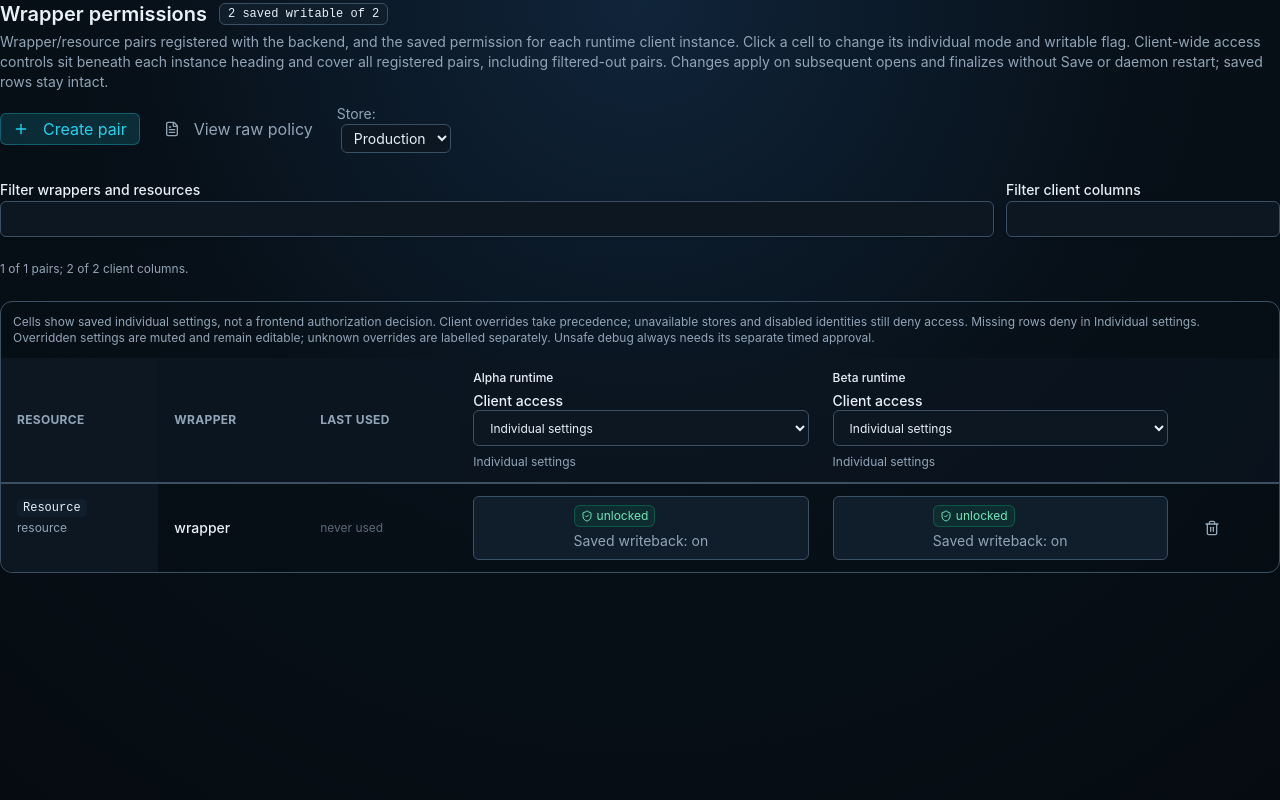
Test: instance controls in permission columns › places controls below the correct heading and changes only that column after acknowledgement
The image size is (1280, 800).
Later steps or results of the test are not shown.
Expected: the button with test id "wrappers-cell-wrapper-resource-Alpha" is shown, [473,496,809,560]
Select "Lock all" in the dropdown labelled "Client access" below "Alpha runtime". click: (641, 428)
box: [473,410,809,446]
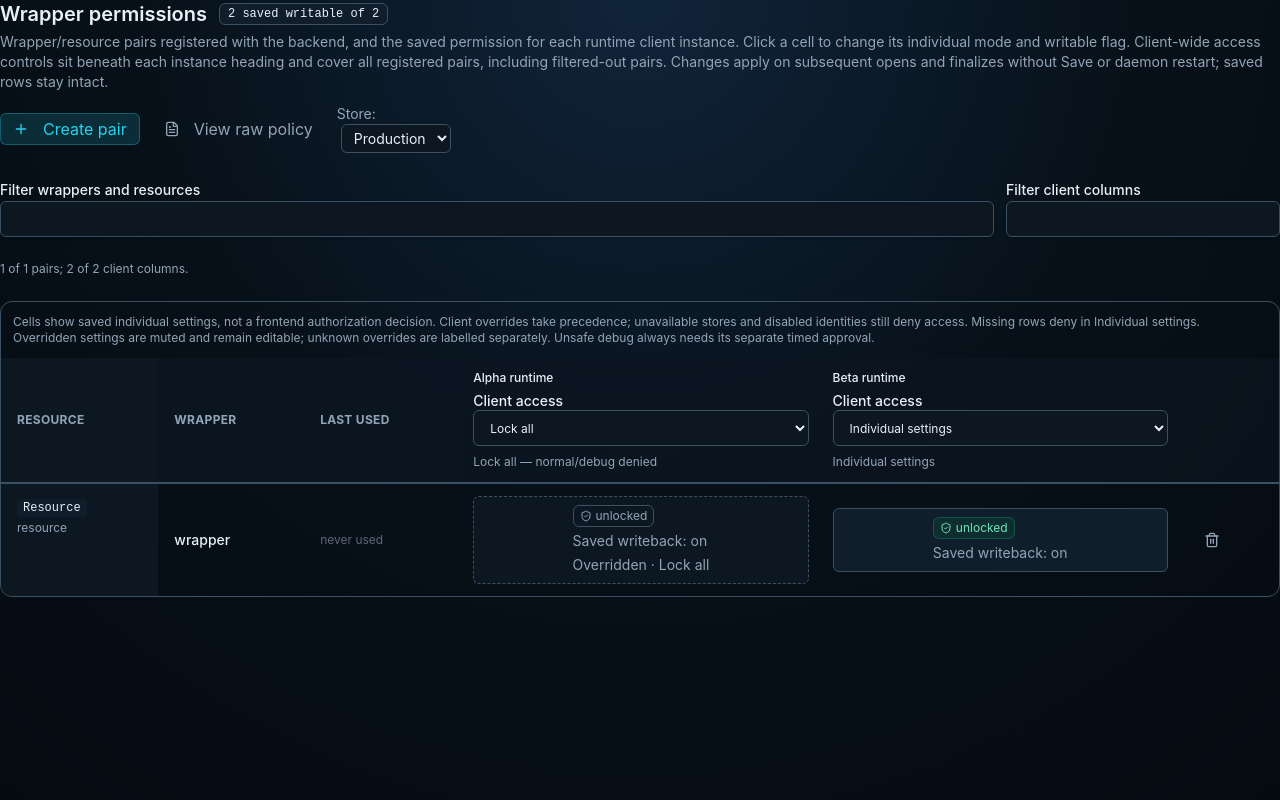
Expected: the button with test id "wrappers-cell-wrapper-resource-Alpha" shows "Overridden · Lock all"
The saved row is still editable, including its original flag.
Click the button with test id "wrappers-cell-wrapper-resource-Alpha". click: (641, 540)
box: [473,496,809,584]
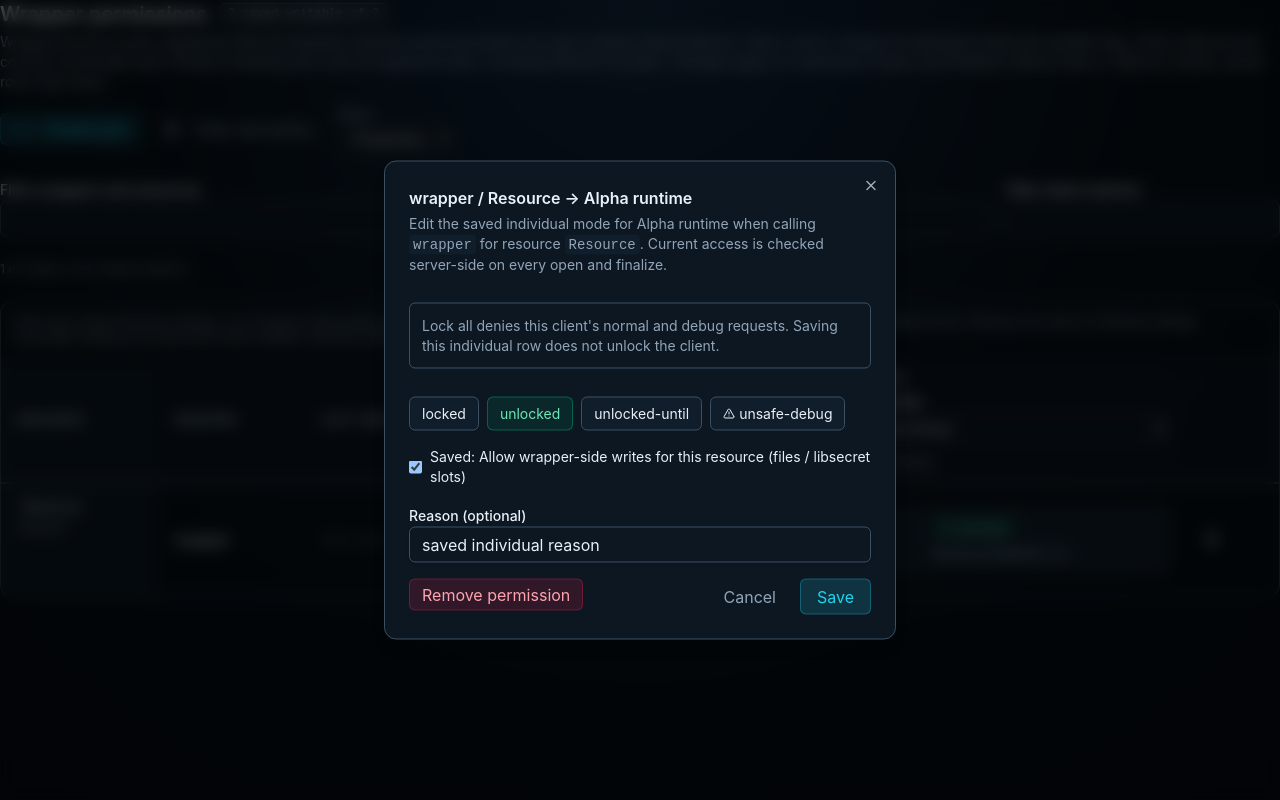
Expected: the checkbox is checked, [409,460,422,473]
Click the button "Cancel". click: (750, 596)
box: [708,578,792,614]
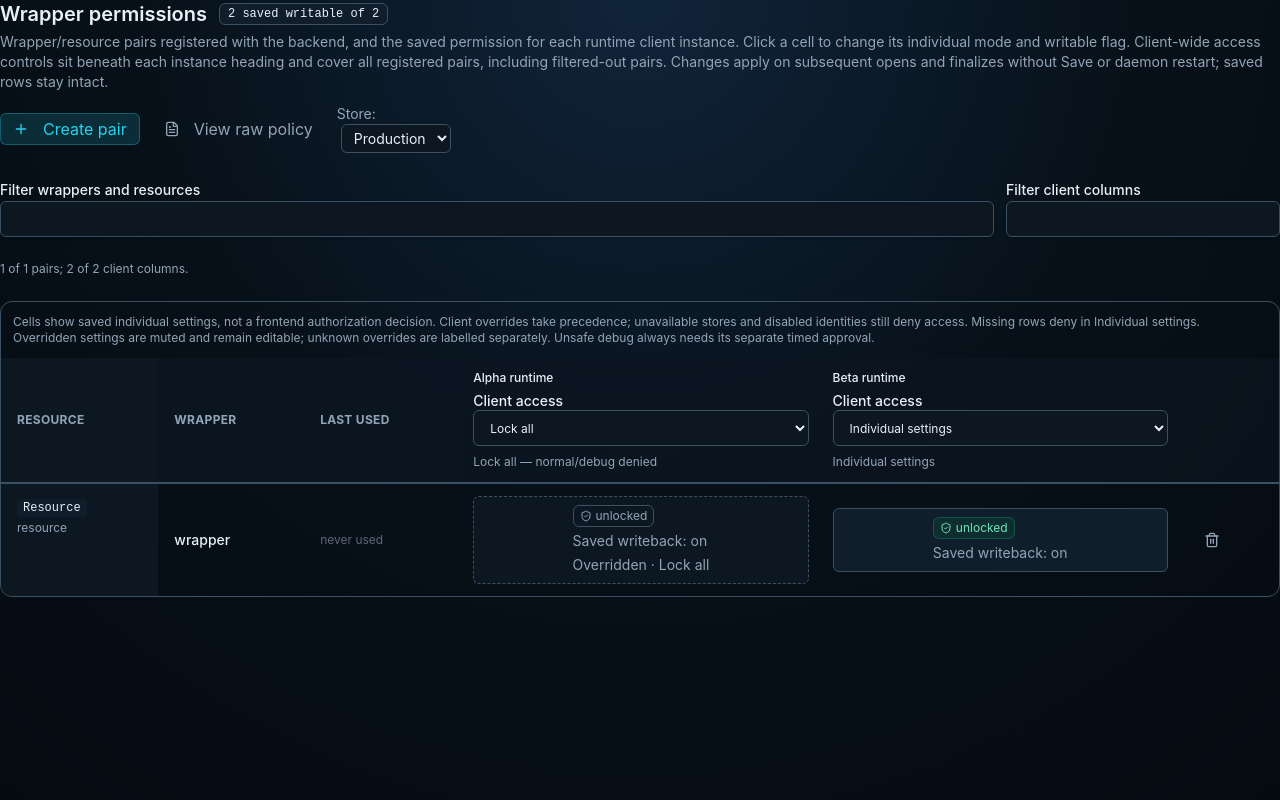
Select "Individual settings" in the dropdown labelled "Client access" below "Alpha runtime". click: (641, 428)
box: [473,410,809,446]
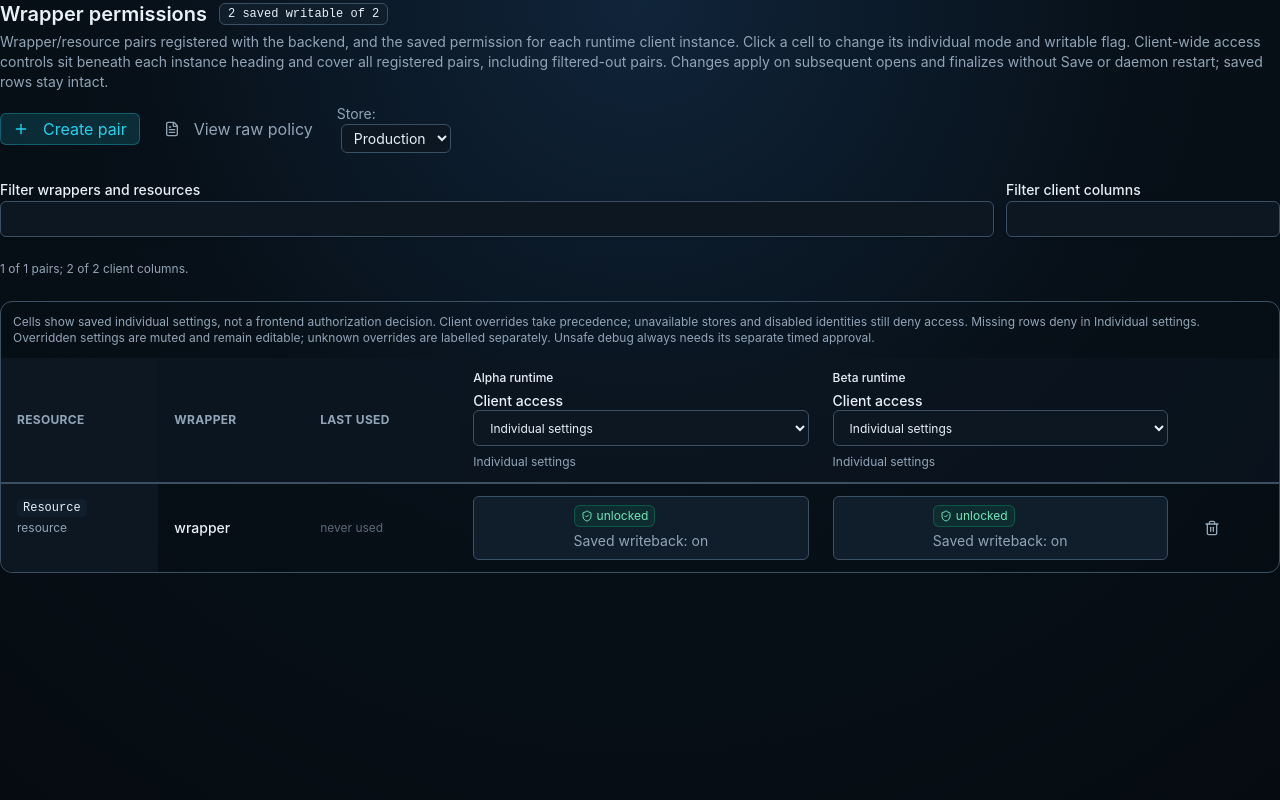
Expected: the button with test id "wrappers-cell-wrapper-resource-Alpha" has attribute data-overridden="false", [473,496,809,560]
Expected: the 1st element with test id "mode-unlocked" has attribute data-muted="false", [574,505,655,527]
Expected: the button with test id "wrappers-cell-wrapper-resource-Alpha" does not have class "border-dashed", [473,496,809,560]
